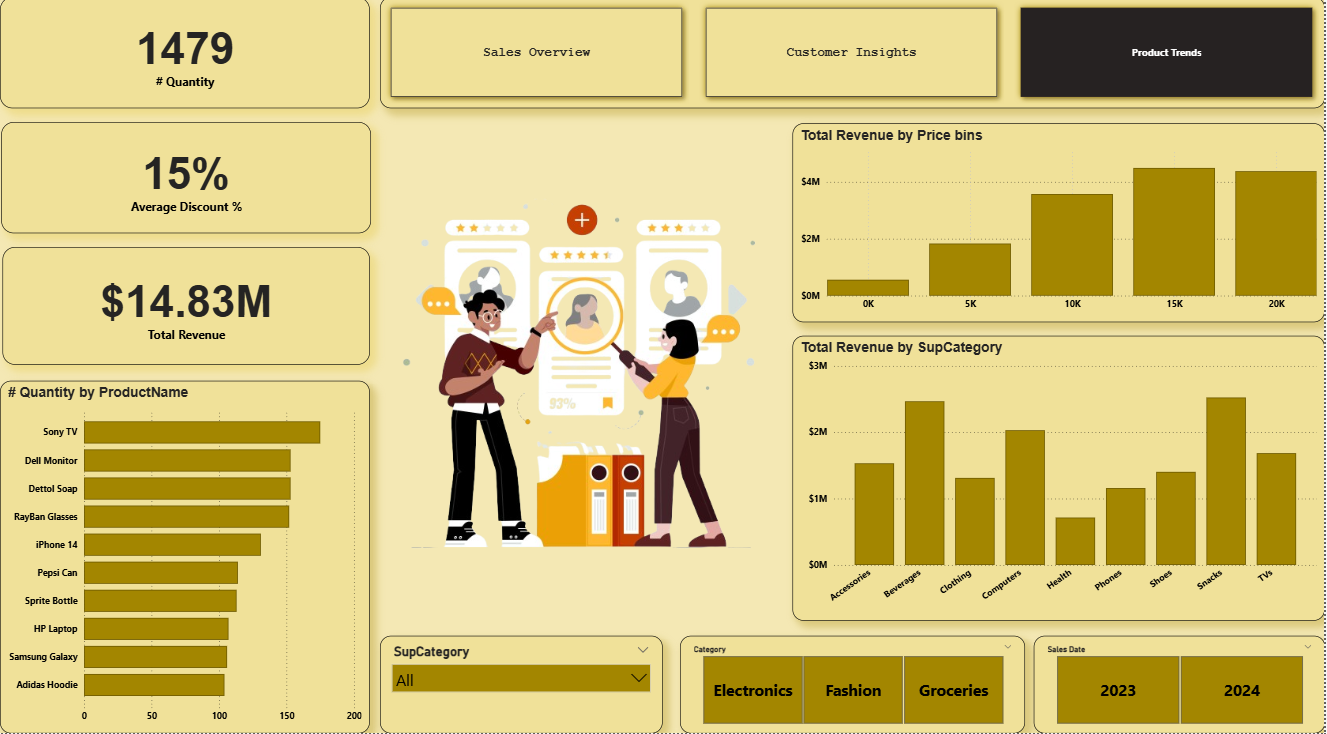

Layout of this report page (visuals, bound fields, positions):
{"tool":"powerbi","page":{"name":"Product Trends","canvas":[1800,1000],"ordinal":2},"visuals":[{"type":"clusteredBarChart","fields":{"Y":["Product Measures.Total Quantity"],"Category":["Products.ProductName"]},"box":[0,521.4,502.7,478.9],"z":0},{"type":"clusteredColumnChart","fields":{"Category":["Products.Category","Products.SupCategory","Products.ProductName"],"Y":["Core Sales Measures.Total Revenue"]},"box":[1076.5,460.8,723.5,387.2],"z":1000},{"type":"clusteredColumnChart","fields":{"Category":["Products.Price bins"],"Y":["Core Sales Measures.Total Revenue"]},"box":[1076.5,171,723.5,270],"z":2000},{"type":"slicer","fields":{"Values":["Products.SupCategory"]},"box":[516.3,867.9,383.8,132.5],"z":3000},{"type":"slicer","fields":{"Values":["Products.Category"]},"box":[923.9,867.9,468.8,132.5],"z":4000},{"type":"slicer","fields":{"Values":["Sales.Sales Date.Variation.Date Hierarchy.Year"]},"box":[1404.3,867.5,395.7,132.5],"z":5000},{"type":"pageNavigator","box":[516,0,1284,151.2],"z":6000},{"type":"card","fields":{"Values":["Product Measures.Total Quantity"]},"box":[0,0,502.7,151.2],"z":7000},{"type":"image","box":[516.3,151.2,546.9,716.7],"z":8000},{"type":"card","fields":{"Values":["Product Measures.Average Discount %"]},"box":[1.7,169.8,502.7,151.2],"z":9000},{"type":"card","fields":{"Values":["Core Sales Measures.Total Revenue"]},"box":[3.4,339.7,499.3,159.6],"z":10000}]}

Visuals, with their boxes in screenshot pixels (x1, y1, x2, y2), scaled from the page's 1800x1000 canvas onto the 1327x734 screenshot:
clusteredBarChart - Product Measures.Total Quantity x Products.ProductName: BBox(0, 383, 371, 733)
clusteredColumnChart - Products.Category x Products.SupCategory: BBox(794, 338, 1326, 622)
clusteredColumnChart - Products.Price bins x Core Sales Measures.Total Revenue: BBox(794, 126, 1326, 324)
slicer - Products.SupCategory: BBox(381, 637, 664, 733)
slicer - Products.Category: BBox(681, 637, 1027, 733)
slicer - Sales.Sales Date.Variation.Date Hierarchy.Year: BBox(1035, 637, 1326, 733)
pageNavigator: BBox(380, 0, 1326, 111)
card - Product Measures.Total Quantity: BBox(0, 0, 371, 111)
image: BBox(381, 111, 784, 637)
card - Product Measures.Average Discount %: BBox(1, 125, 372, 236)
card - Core Sales Measures.Total Revenue: BBox(3, 249, 371, 366)
